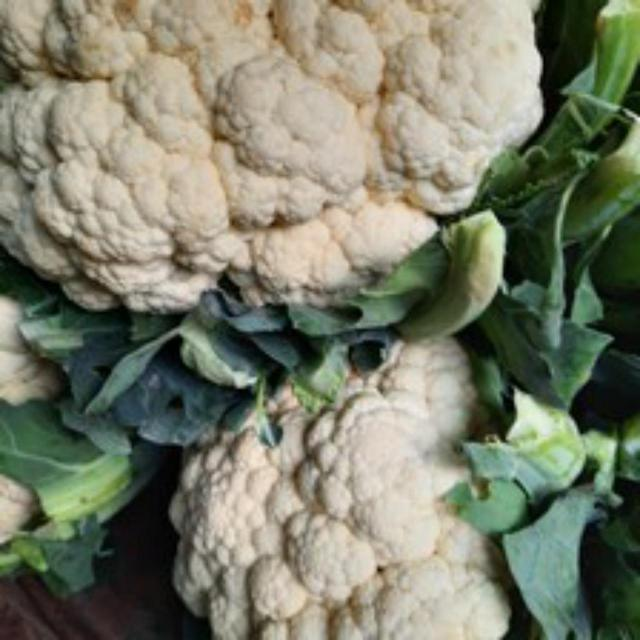cauliflower: (7, 0, 556, 317)
